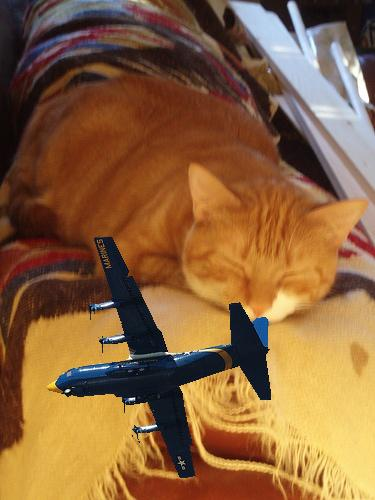tampered: (48, 238, 271, 478)
